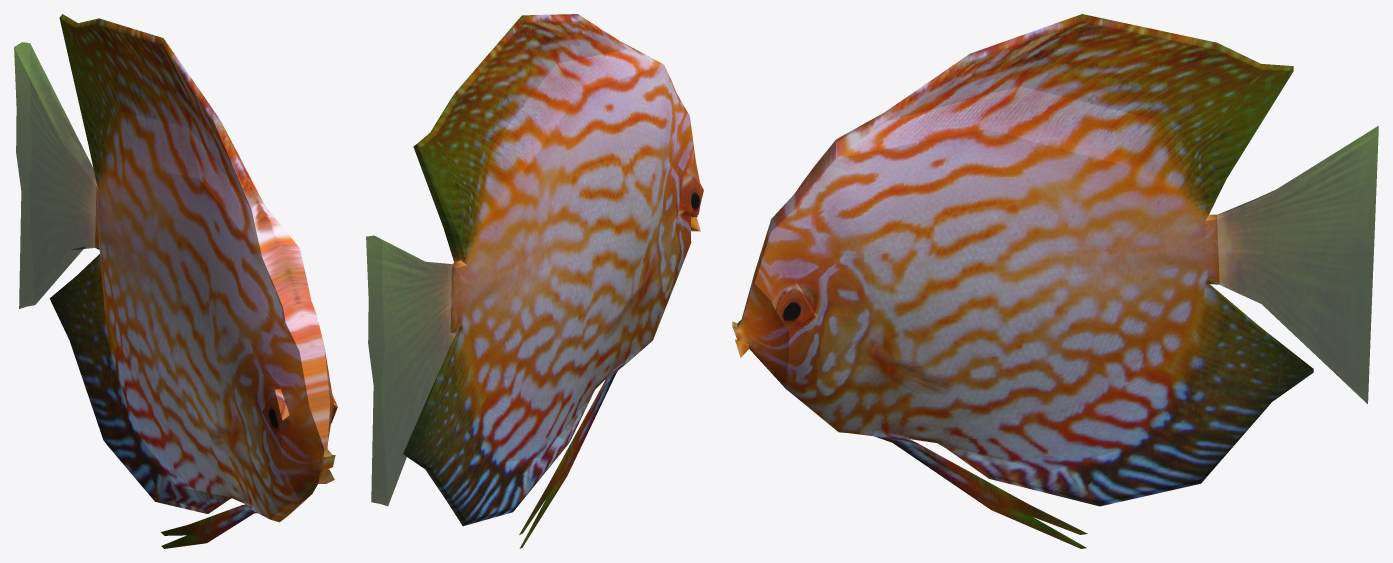
The model's file is orangefish.fbx.
The picture shows the model from 3 angles, left to right: view 1: azimuth 30°, elevation 25°; view 2: azimuth 150°, elevation 25°; view 3: azimuth 270°, elevation 25°; orthographic projection. The views are drawn at different scales.
Visible parts, largest first — view 1: tropicalFishMaya2008:orangefish1; view 2: tropicalFishMaya2008:orangefish1; view 3: tropicalFishMaya2008:orangefish1.
Part boxes in pixels (x1,y1,x2,y2): tropicalFishMaya2008:orangefish1: (14, 14, 337, 548); tropicalFishMaya2008:orangefish1: (366, 14, 703, 548); tropicalFishMaya2008:orangefish1: (732, 14, 1378, 548).
Size of the model in its own units: 3.17 by 21.06 by 23.05.
